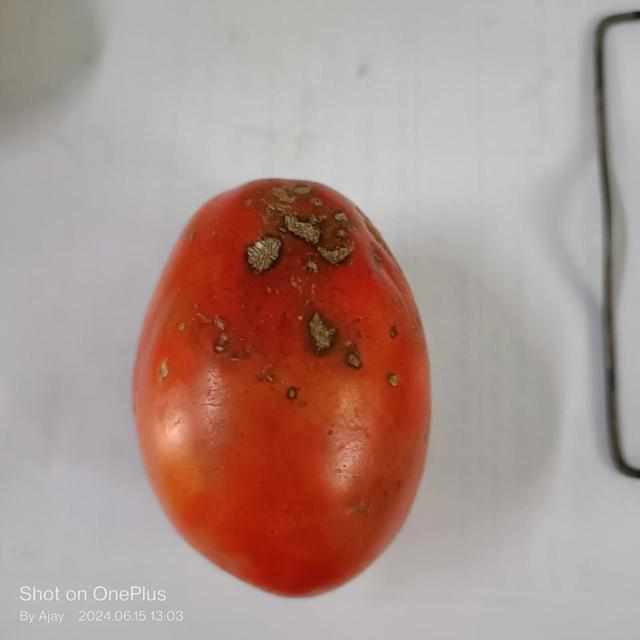Bacterial Spot Fruit: (3, 4, 263, 261)
